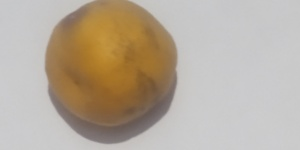BAD: (40, 2, 181, 129)
